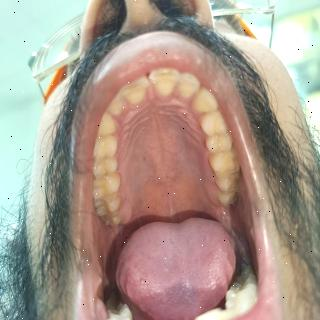UL1BC_healthy: (200, 112, 226, 135)
UL1M_healthy: (208, 152, 240, 177)
UL2BC_healthy: (205, 135, 233, 153)
UL2M_healthy: (215, 175, 239, 192)
UL3M_decay: (218, 191, 240, 207)
ULCI_healthy: (151, 68, 179, 95)
ULC_healthy: (193, 86, 218, 112)
ULLI_healthy: (180, 72, 200, 99)
UR1BC_healthy: (94, 135, 117, 159)
UR1M_healthy: (94, 175, 120, 195)
UR2BC_healthy: (93, 158, 117, 175)
UR2M_healthy: (94, 196, 120, 215)
UR3M_healthy: (100, 214, 121, 226)
URCI_healthy: (119, 77, 150, 103)
URC_healthy: (98, 113, 117, 136)
URLI_healthy: (108, 93, 128, 115)
